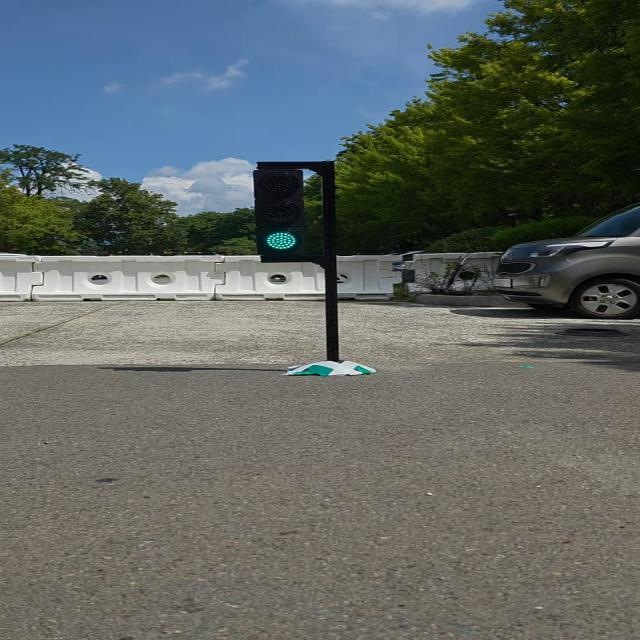green: (253, 164, 311, 264)
